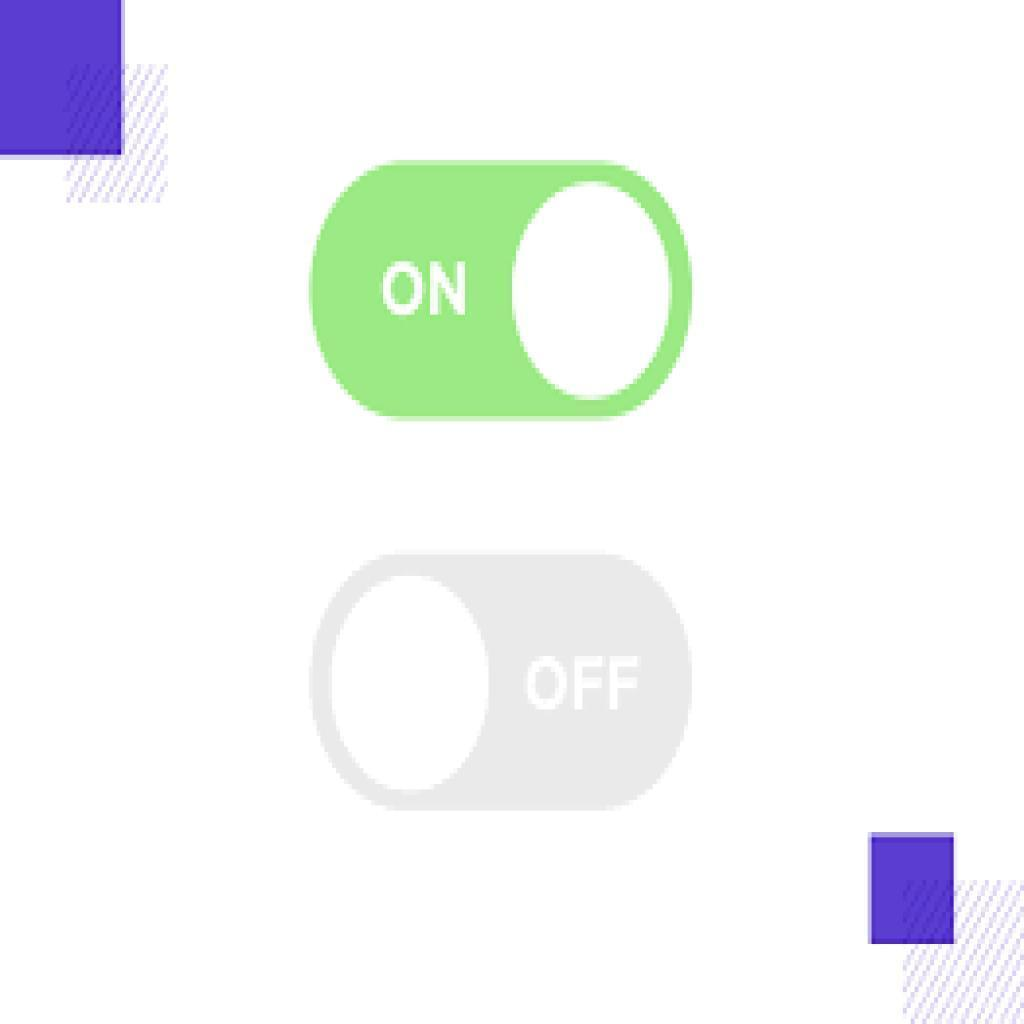switch: (307, 157, 696, 430), (303, 551, 691, 812)
